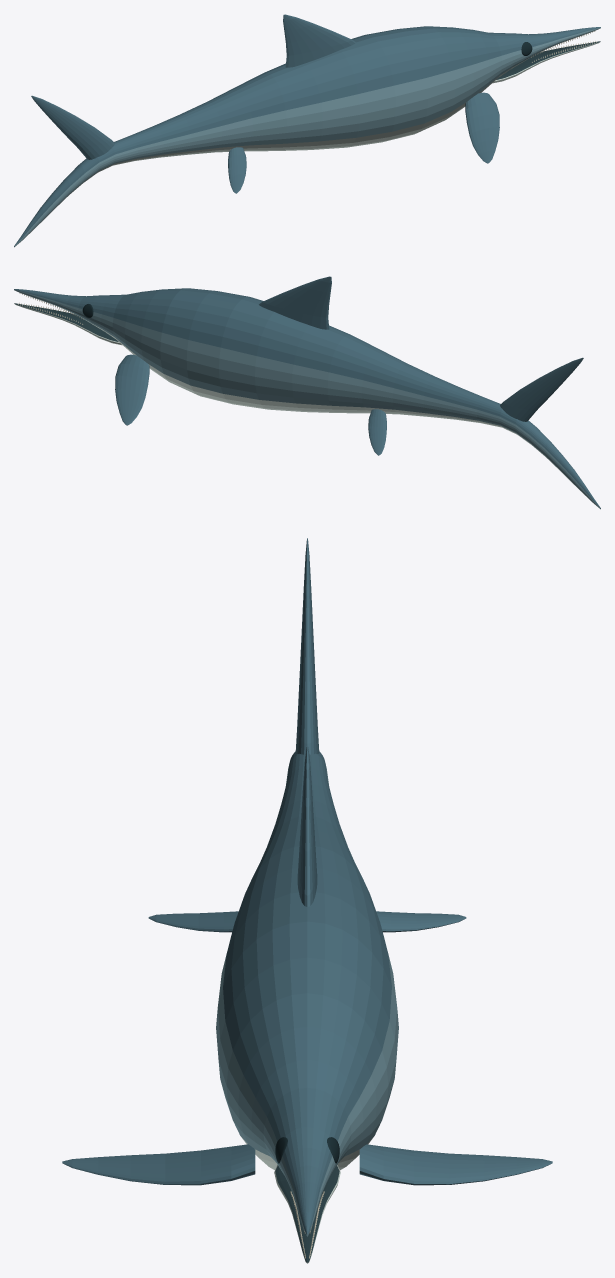
The picture shows the model from 3 angles, top to bottom: view 1: azimuth 30°, elevation 25°; view 2: azimuth 150°, elevation 25°; view 3: azimuth 270°, elevation 25°; orthographic projection. The views are drawn at different scales.
Parts seen in each view (by area): view 1: Compact_body_upper_skull_and_downturned_tail_axis, Modest_inferred_swept_dorsal_fin, Broad_forepaddle_near, Inferred_vertical_upper_caudal_lobe, Narrow_lower_jaw_six_degree_opening, Smaller_hindpaddle_near; view 2: Compact_body_upper_skull_and_downturned_tail_axis, Modest_inferred_swept_dorsal_fin, Broad_forepaddle_far, Inferred_vertical_upper_caudal_lobe, Narrow_lower_jaw_six_degree_opening, Smaller_hindpaddle_far; view 3: Compact_body_upper_skull_and_downturned_tail_axis, Broad_forepaddle_far, Broad_forepaddle_near, Inferred_vertical_upper_caudal_lobe, Modest_inferred_swept_dorsal_fin, Narrow_lower_jaw_six_degree_opening, Smaller_hindpaddle_far, Smaller_hindpaddle_near.
Part boxes in pixels (x1=…): Compact_body_upper_skull_and_downturned_tail_axis: x1=14, y1=26, x2=600, y2=247; Modest_inferred_swept_dorsal_fin: x1=283, y1=14, x2=355, y2=67; Broad_forepaddle_near: x1=465, y1=92, x2=499, y2=163; Inferred_vertical_upper_caudal_lobe: x1=31, y1=95, x2=114, y2=159; Narrow_lower_jaw_six_degree_opening: x1=492, y1=41, x2=600, y2=83; Smaller_hindpaddle_near: x1=228, y1=147, x2=246, y2=193; Compact_body_upper_skull_and_downturned_tail_axis: x1=14, y1=288, x2=600, y2=509; Modest_inferred_swept_dorsal_fin: x1=259, y1=276, x2=331, y2=329; Broad_forepaddle_far: x1=115, y1=354, x2=149, y2=425; Inferred_vertical_upper_caudal_lobe: x1=500, y1=357, x2=583, y2=421; Narrow_lower_jaw_six_degree_opening: x1=14, y1=303, x2=122, y2=345; Smaller_hindpaddle_far: x1=368, y1=409, x2=386, y2=455; Compact_body_upper_skull_and_downturned_tail_axis: x1=216, y1=751, x2=398, y2=1236; Broad_forepaddle_far: x1=359, y1=1144, x2=552, y2=1185; Broad_forepaddle_near: x1=62, y1=1144, x2=255, y2=1185; Inferred_vertical_upper_caudal_lobe: x1=295, y1=538, x2=319, y2=754; Modest_inferred_swept_dorsal_fin: x1=297, y1=745, x2=317, y2=906; Narrow_lower_jaw_six_degree_opening: x1=274, y1=1165, x2=340, y2=1263; Smaller_hindpaddle_far: x1=376, y1=911, x2=466, y2=932; Smaller_hindpaddle_near: x1=148, y1=911, x2=238, y2=932.
Size of the model in its own units: 2.68 by 0.728 by 0.97.
